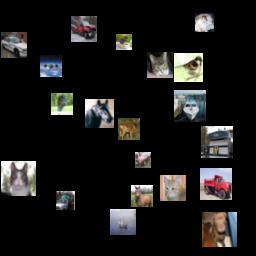airplane: (40, 55, 62, 77)
automobile: (1, 32, 27, 58), (135, 152, 151, 168)
bird: (174, 53, 203, 82), (51, 93, 73, 115), (116, 34, 132, 50)
cat: (1, 161, 36, 196), (147, 52, 173, 78), (160, 175, 186, 201), (195, 13, 214, 32)
deer: (118, 118, 140, 140)
dog: (202, 212, 237, 247)
ship: (174, 90, 206, 122), (110, 209, 136, 235)
truck: (200, 168, 232, 200), (201, 126, 233, 158), (71, 16, 97, 42), (56, 191, 75, 210)
